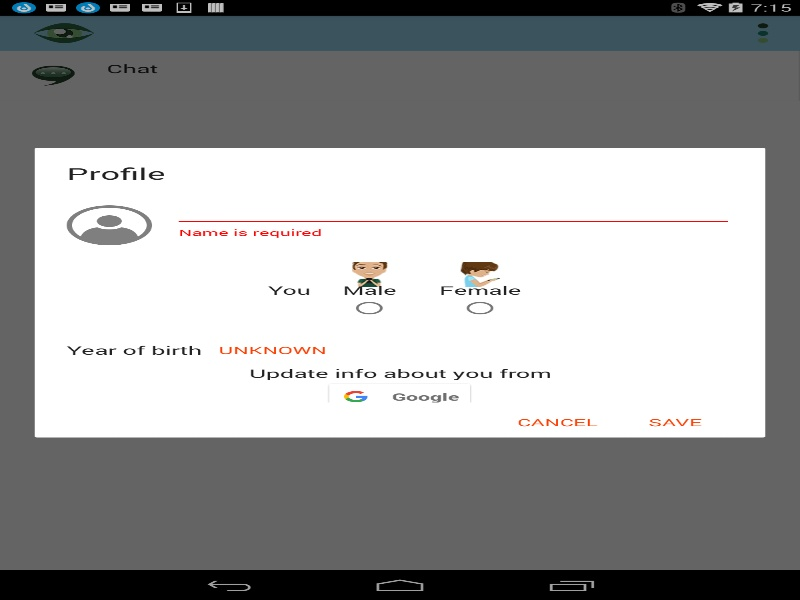Button: (202, 335, 733, 365), (324, 381, 475, 411), (498, 407, 616, 437), (616, 407, 733, 437)
Input: (173, 195, 733, 226)
